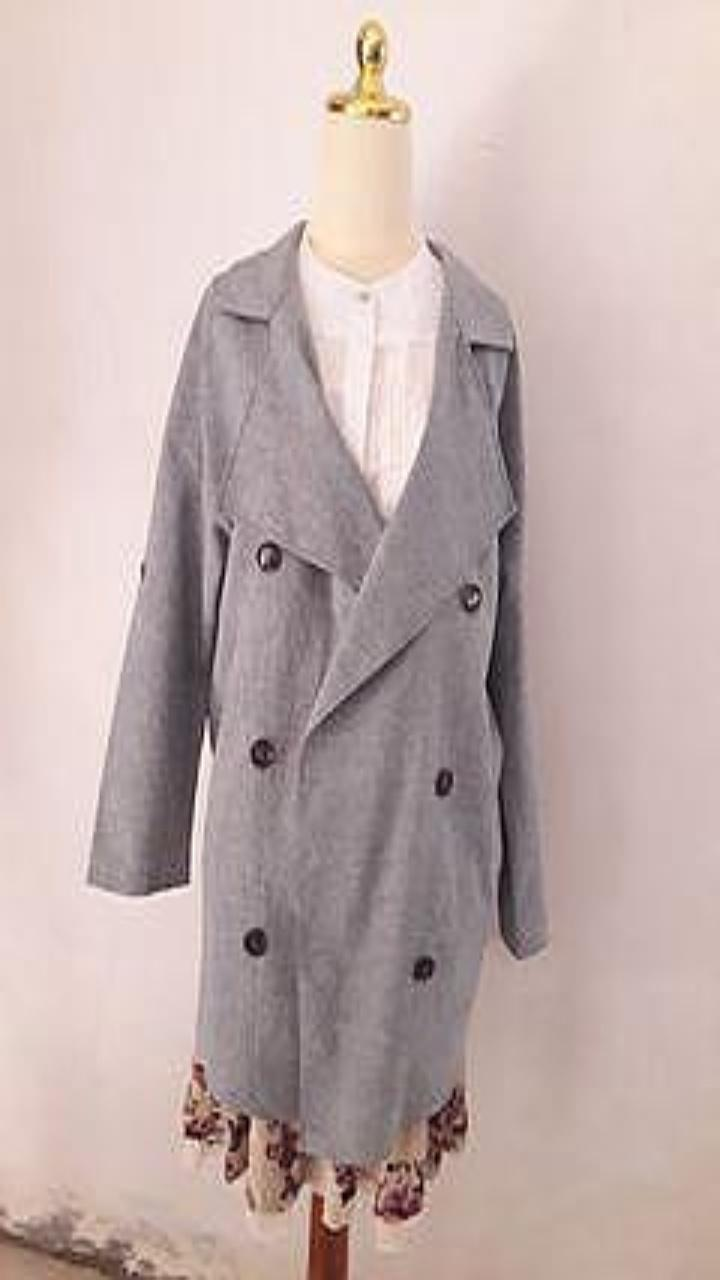Coat: (87, 220, 548, 1161)
Dresses: (183, 1059, 467, 1249)
